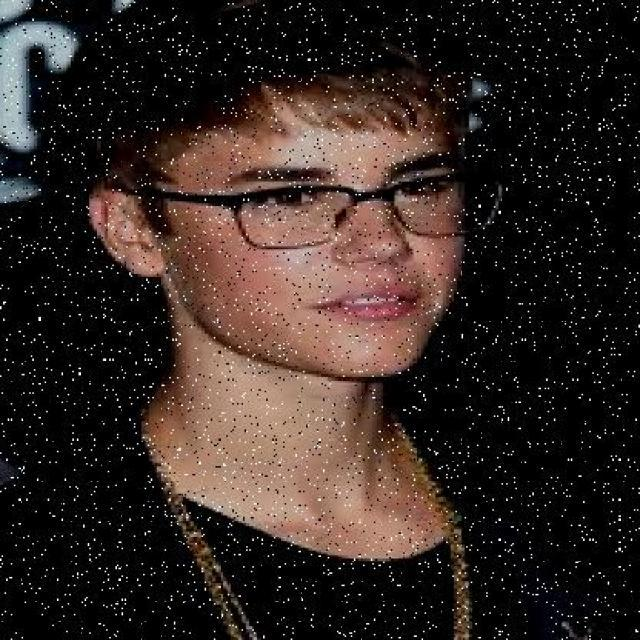mask: (201, 168, 514, 252)
